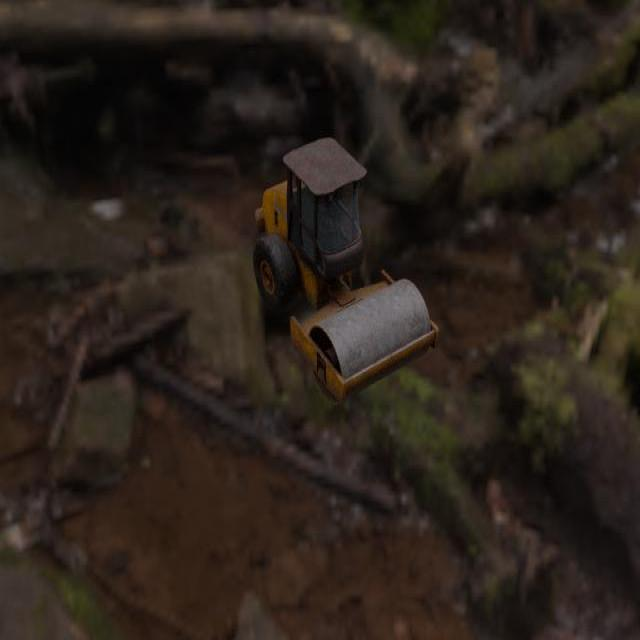Roller: (252, 136, 439, 405)
